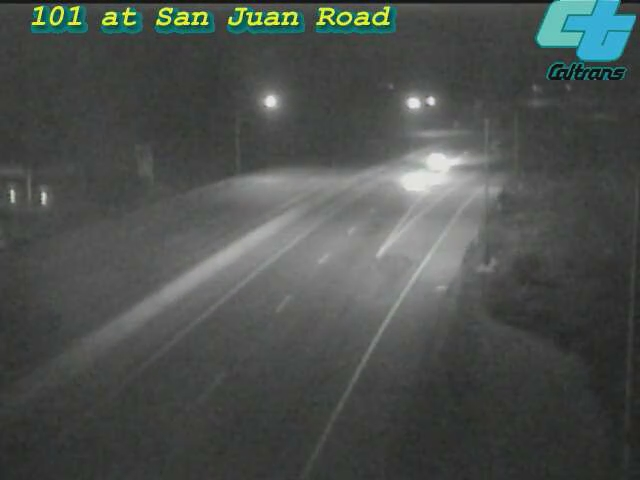vehicle: (394, 122, 474, 202), (374, 143, 454, 223)
